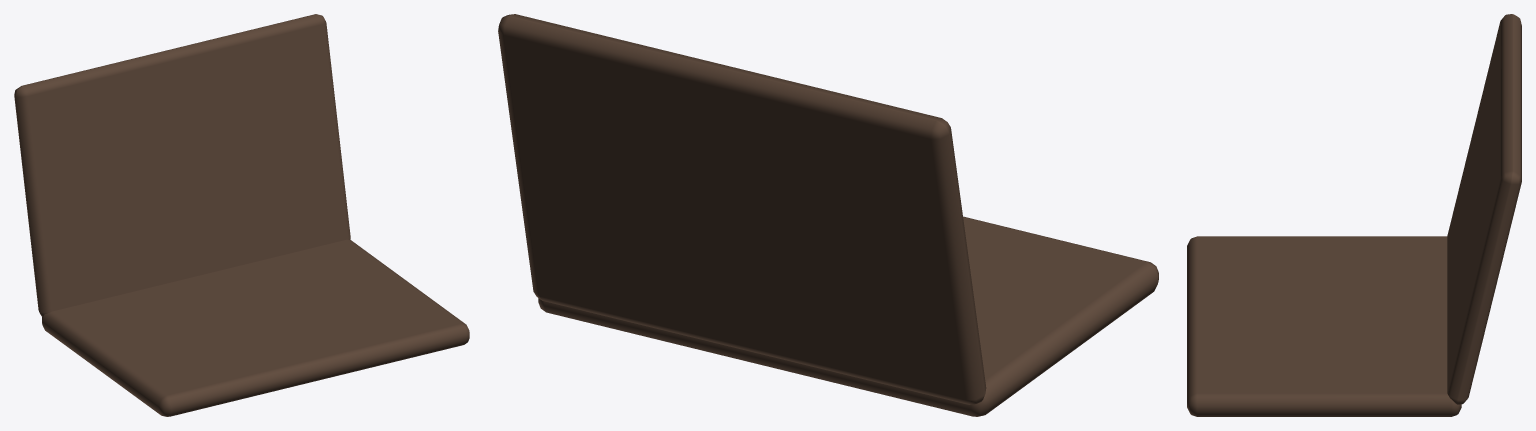
The model's file is laptop.glb.
The picture shows the model from 3 angles, left to right: view 1: azimuth 30°, elevation 25°; view 2: azimuth 150°, elevation 25°; view 3: azimuth 270°, elevation 25°; orthographic projection. The views are drawn at different scales.
Visible parts, largest first — view 1: laptop; view 2: laptop; view 3: laptop.
Boxes of the visible parts, bbox=[...] form: laptop: bbox=[14, 14, 469, 416]; laptop: bbox=[498, 14, 1158, 416]; laptop: bbox=[1187, 14, 1521, 416].
Bounding box in the file's own units: 0.3687 × 0.2559 × 0.3155.
